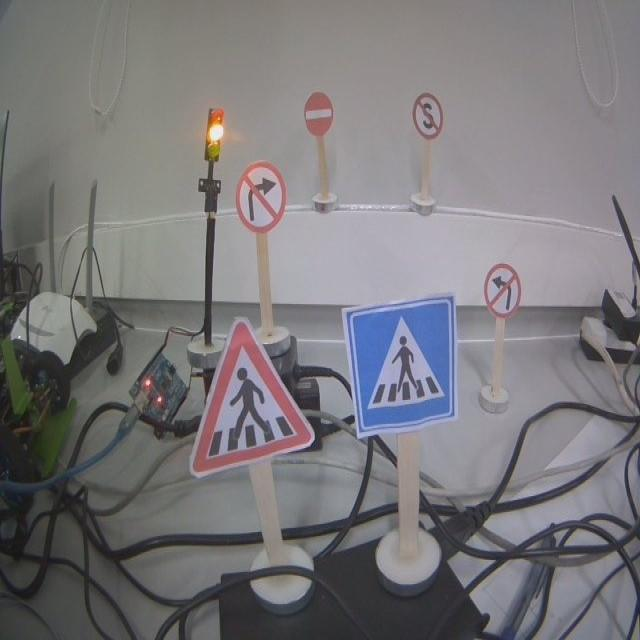Dilarang Belok Kanan: (237, 165, 284, 238)
Dilarang Belok Kiri: (484, 264, 521, 316)
Dilarang Masuk: (304, 94, 333, 138)
Lampu Kuning: (205, 108, 224, 164)
Rambu Berhenti: (414, 93, 444, 138)
Rambu Penyebrangan: (190, 318, 314, 474), (340, 292, 458, 436)
